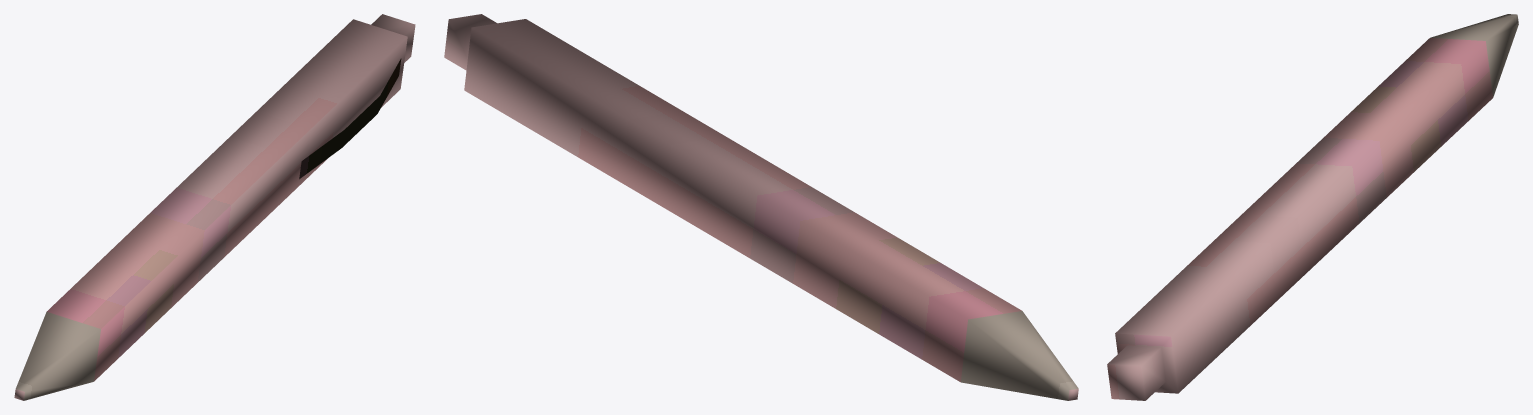
Rendered from pen4.fbx.
The picture shows the model from 3 angles, left to right: view 1: azimuth 90°, elevation 25°; view 2: azimuth 150°, elevation 25°; view 3: azimuth 270°, elevation 25°; orthographic projection. The views are drawn at different scales.
Parts seen in each view (by area): view 1: pen4; view 2: pen4; view 3: pen4.
Part boxes in pixels (x1=…): pen4: x1=14, y1=14, x2=415, y2=400; pen4: x1=444, y1=14, x2=1078, y2=400; pen4: x1=1107, y1=14, x2=1518, y2=400.
Bounding box in the file's own units: 22.13 × 1.81 × 10.38.
Materials: 1 (1 with a texture image).
